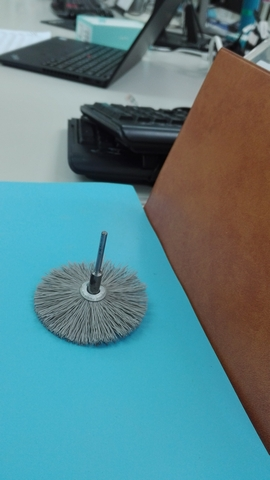TOOL: (9, 218, 163, 351), (36, 218, 151, 367), (31, 240, 155, 345)
